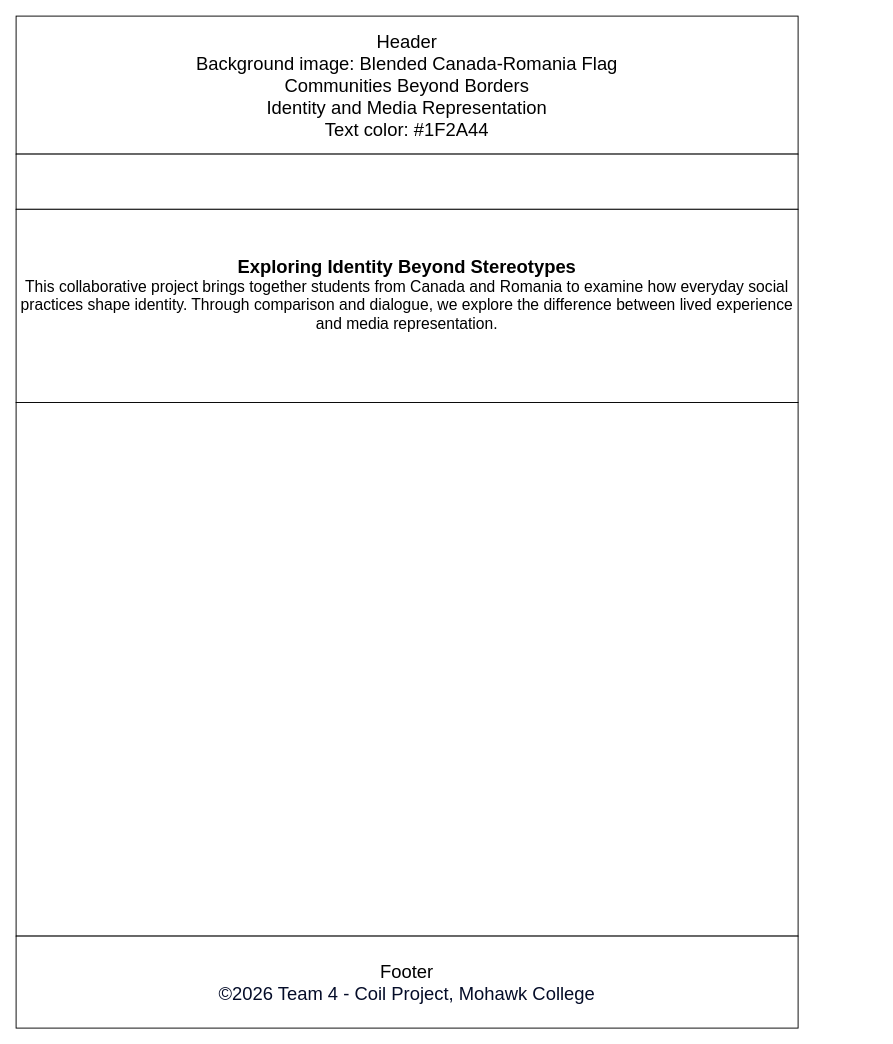
Some shapes in this 893 by 1044 pixel diagram are drawn without their labels. The shapes that lost their labels are listed below. From the top down, each one's centre as x and y in pixels, then its label:
point 406,181: Home | About | Our Identities | Media Representation | P odcast | Team
point 406,669: Image Carousel Social Practices
